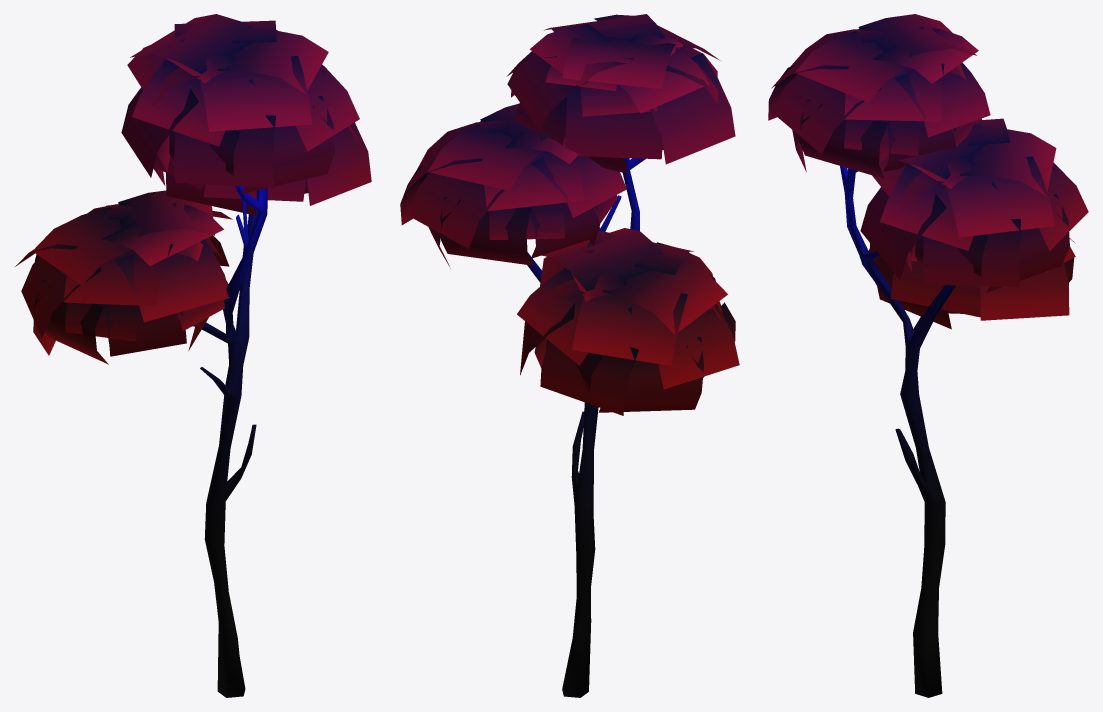
File: tree2_B.fbx
The picture shows the model from 3 angles, left to right: view 1: azimuth 30°, elevation 25°; view 2: azimuth 150°, elevation 25°; view 3: azimuth 270°, elevation 25°; orthographic projection. The views are drawn at different scales.
Parts seen in each view (by area): view 1: Tree_02_a_LOD0; view 2: Tree_02_a_LOD0; view 3: Tree_02_a_LOD0.
Boxes of the visible parts, x1,y1,x2,y2 form: Tree_02_a_LOD0: (15, 14, 371, 697); Tree_02_a_LOD0: (400, 14, 739, 697); Tree_02_a_LOD0: (768, 14, 1088, 697).
Bounding box in the file's own units: 303 × 613 × 277.
